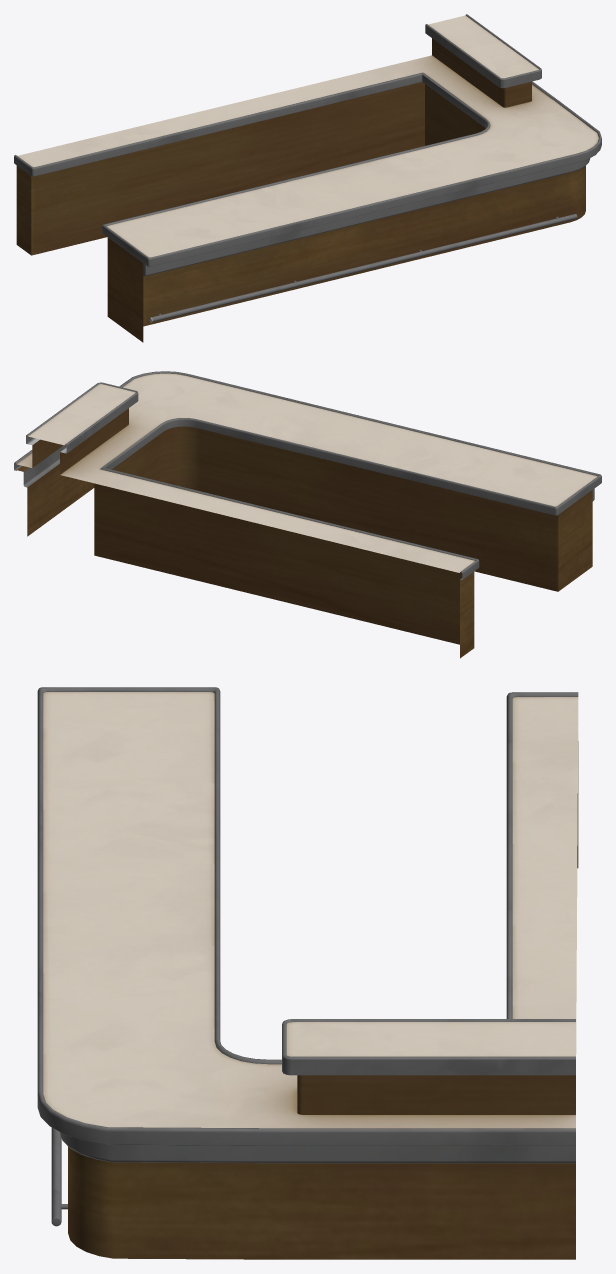
The model's file is diner_counter.glb.
The picture shows the model from 3 angles, top to bottom: view 1: azimuth 30°, elevation 25°; view 2: azimuth 150°, elevation 25°; view 3: azimuth 270°, elevation 25°; orthographic projection. The views are drawn at different scales.
Visible parts, largest first — view 1: Counter_low; view 2: Counter_low; view 3: Counter_low.
Boxes of the visible parts, box(x1,y1,x2,y2) form: Counter_low: box(14, 14, 601, 342); Counter_low: box(14, 371, 601, 658); Counter_low: box(37, 687, 578, 1259).
Size of the model in its own units: 586 by 145 by 302.
Materials: 1 (1 with a texture image).
